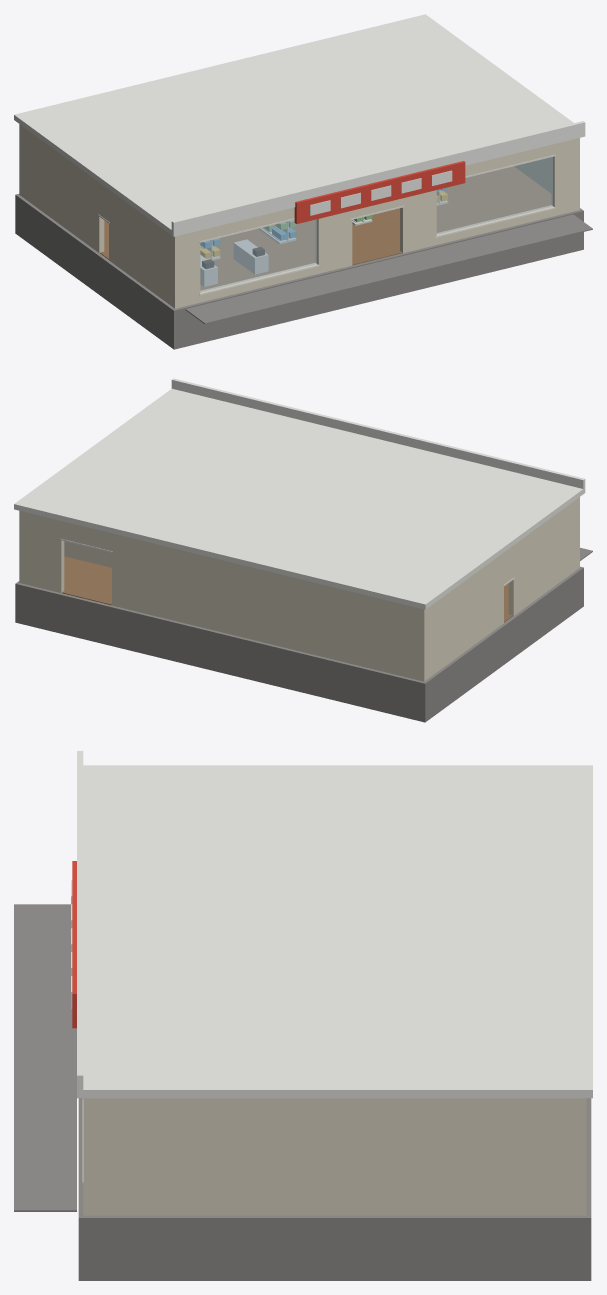
The model's file is bld_supermarket.glb.
3 views of the same model, one above another, from view 1: azimuth 30°, elevation 25°; view 2: azimuth 150°, elevation 25°; view 3: azimuth 270°, elevation 25° (orthographic). The views are drawn at different scales.
Parts seen in each view (by area): view 1: Supermarket; view 2: Supermarket; view 3: Supermarket.
Boxes of the visible parts, <box> form: Supermarket: <box>14,14,592,349</box>; Supermarket: <box>14,378,592,722</box>; Supermarket: <box>14,751,592,1280</box>.
Size of what is drawn, in the model's own units: 24.4 by 7.22 by 18.4.
